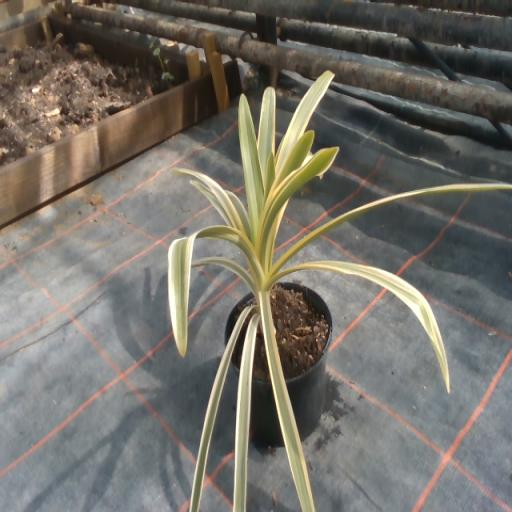Agapanthus-praecox: (278, 261, 449, 391), (271, 185, 511, 275), (190, 306, 254, 511), (259, 291, 314, 511), (169, 226, 255, 355), (258, 148, 338, 261), (277, 71, 333, 177), (234, 313, 260, 511), (172, 169, 246, 234), (239, 96, 262, 242), (258, 87, 275, 192), (278, 132, 313, 183), (193, 257, 251, 287), (226, 191, 248, 230), (266, 153, 274, 198)
